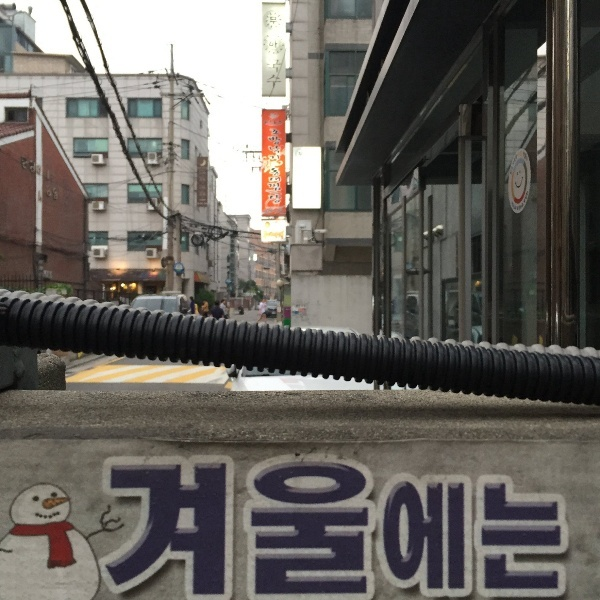text: (113, 455, 128, 600), (129, 455, 144, 600), (145, 455, 160, 600), (161, 455, 176, 600), (177, 455, 192, 600), (193, 455, 208, 600), (209, 455, 224, 600), (225, 455, 240, 600), (241, 455, 256, 600), (257, 455, 272, 600), (273, 455, 288, 600), (289, 455, 304, 600), (305, 455, 320, 600), (321, 455, 336, 600), (337, 455, 352, 600), (353, 455, 368, 600), (369, 455, 384, 600), (385, 455, 400, 600), (401, 455, 416, 600), (417, 455, 432, 600), (433, 455, 448, 600), (449, 455, 464, 600), (465, 455, 480, 600), (481, 455, 496, 600), (497, 455, 512, 600), (513, 455, 528, 600), (529, 455, 544, 600), (545, 455, 560, 600), (103, 455, 112, 600), (561, 455, 570, 600), (273, 167, 282, 206), (273, 129, 281, 161), (268, 167, 272, 206), (268, 129, 272, 161), (273, 40, 278, 48), (273, 16, 277, 25), (269, 40, 272, 48), (270, 16, 272, 25)
